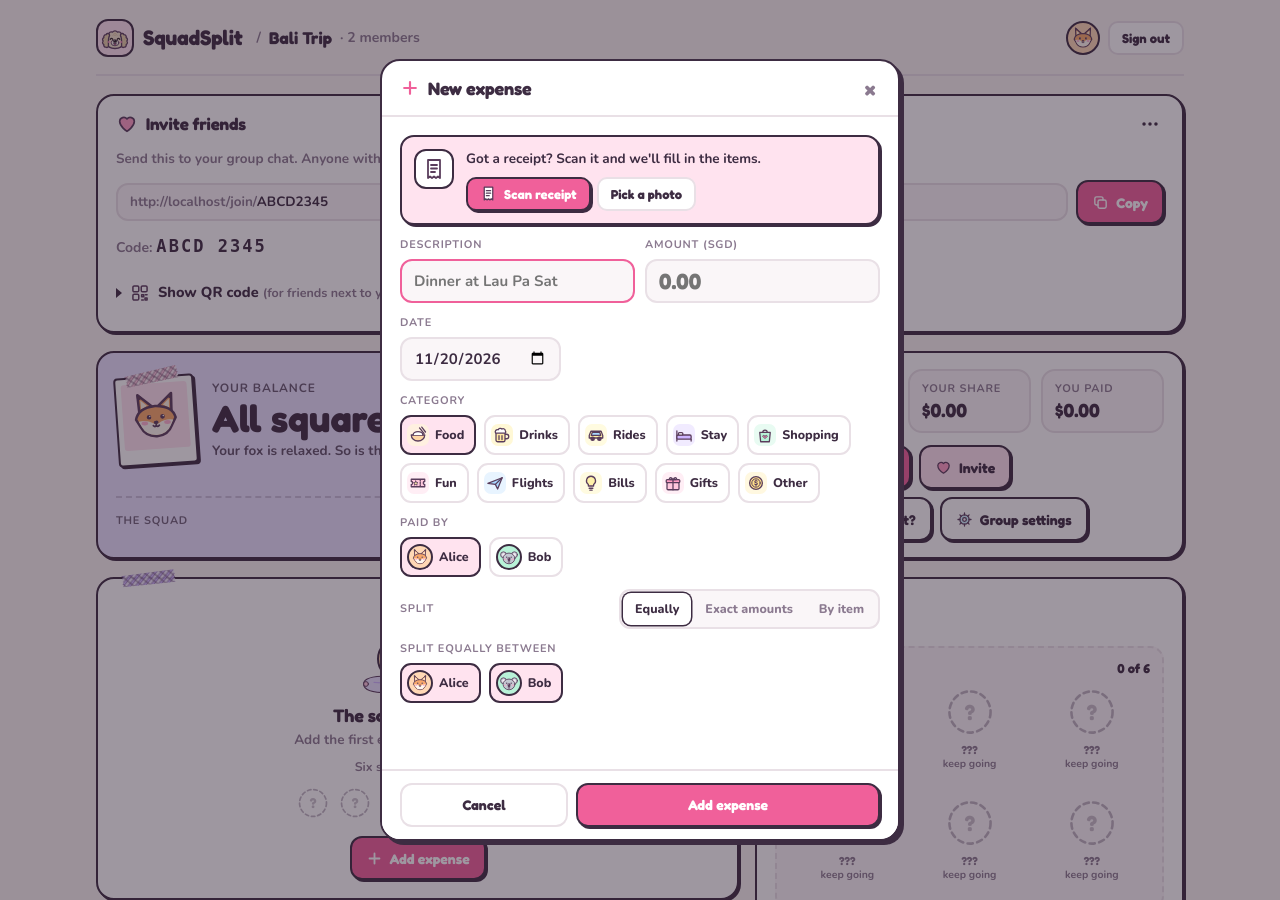
Scenario: Expense form › previews equal shares with splitEqual: the payer takes the leftover cent
Step 1. Type "10.01" into the field labelled "Amount (SGD)" → (762, 281), box [645,259,880,303]
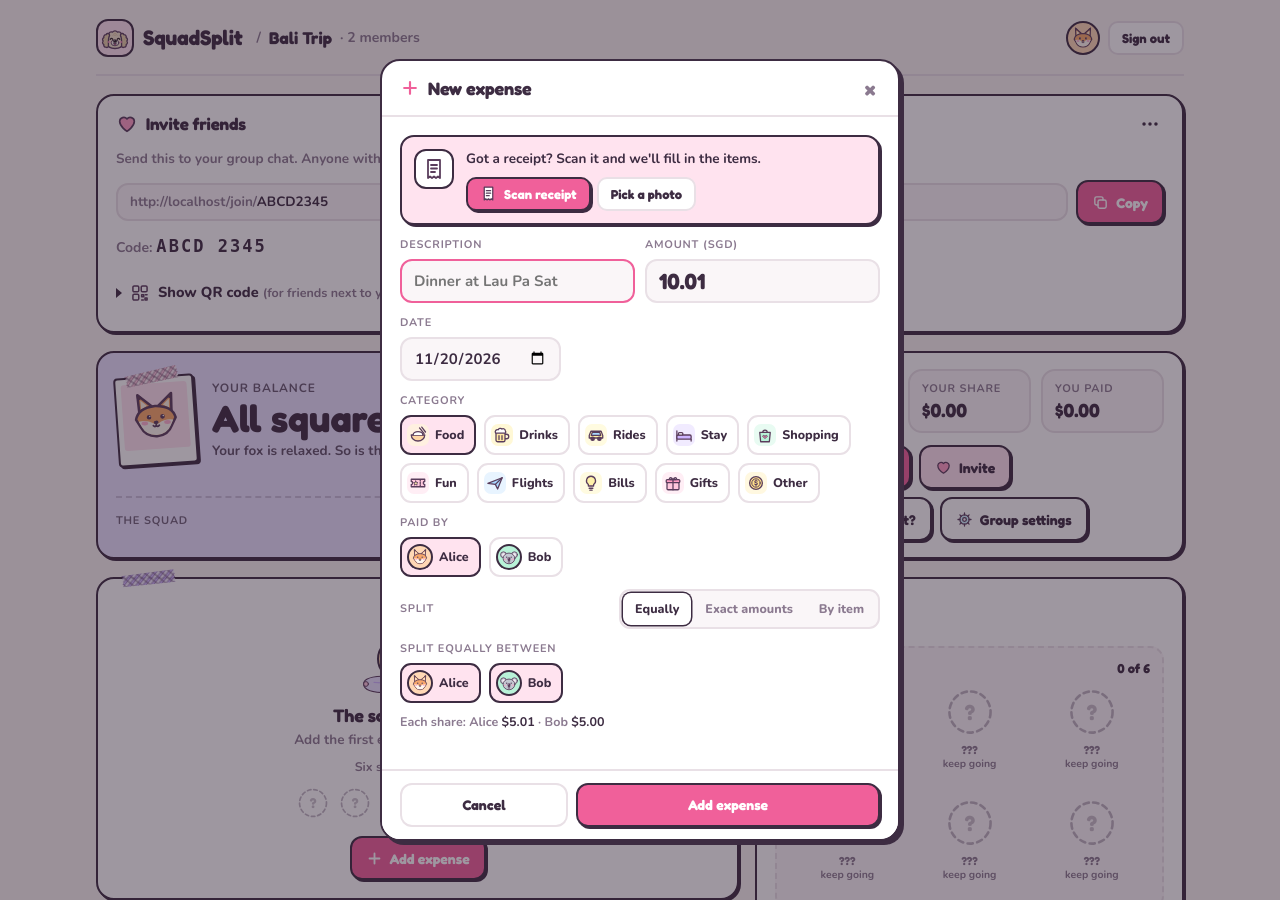
Check: the element with test id "preview" reads "Each share: Alice $5.01 · Bob $5.00", box [400,713,604,730]
Step 2. Click the 1st button "Bob" → (526, 557), box [489,537,563,577]
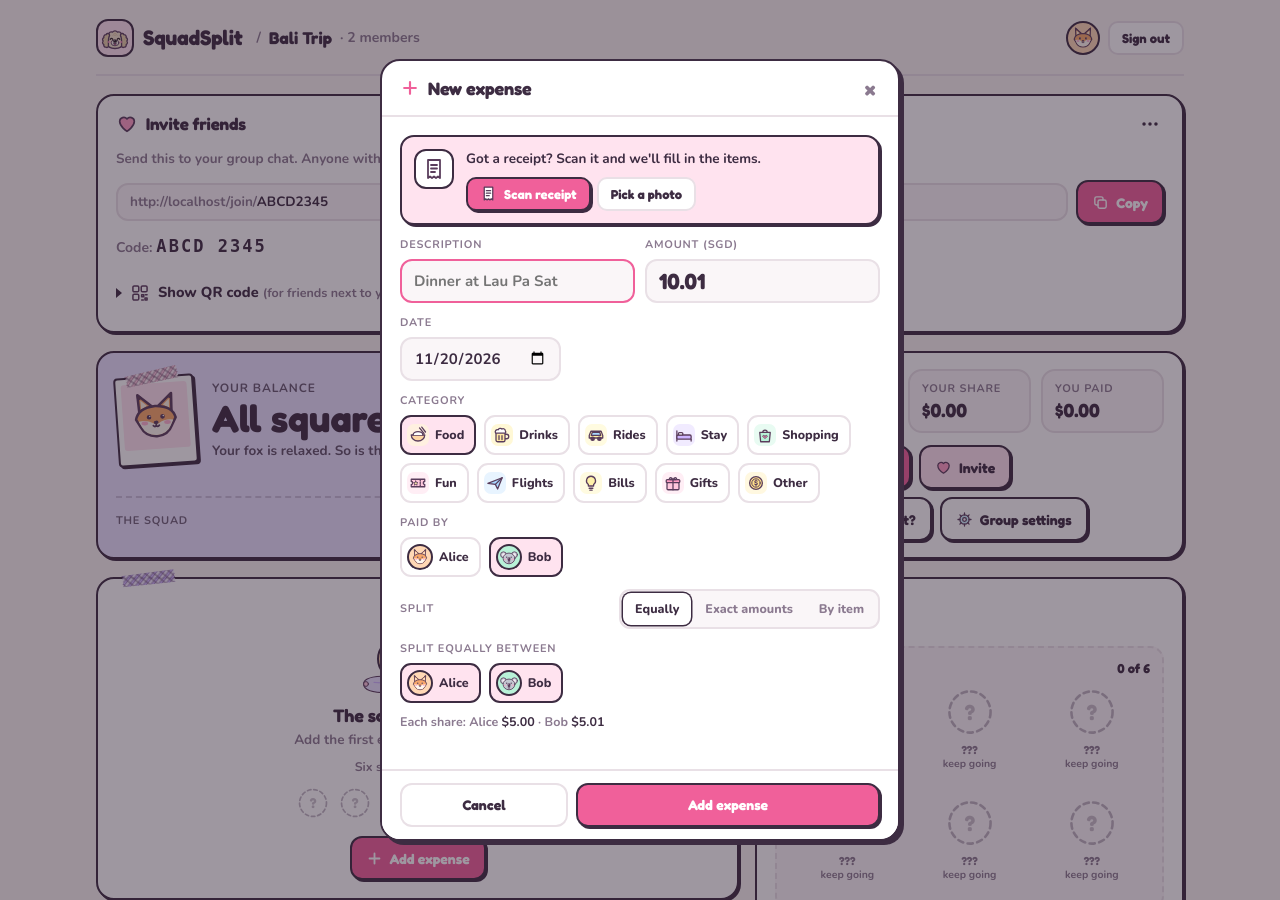
Check: the element with test id "preview" reads "Each share: Alice $5.00 · Bob $5.01", box [400,713,604,730]
